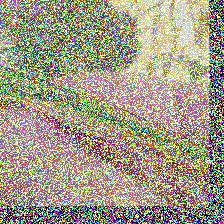Leaf_Blast: (0, 56, 187, 171)
